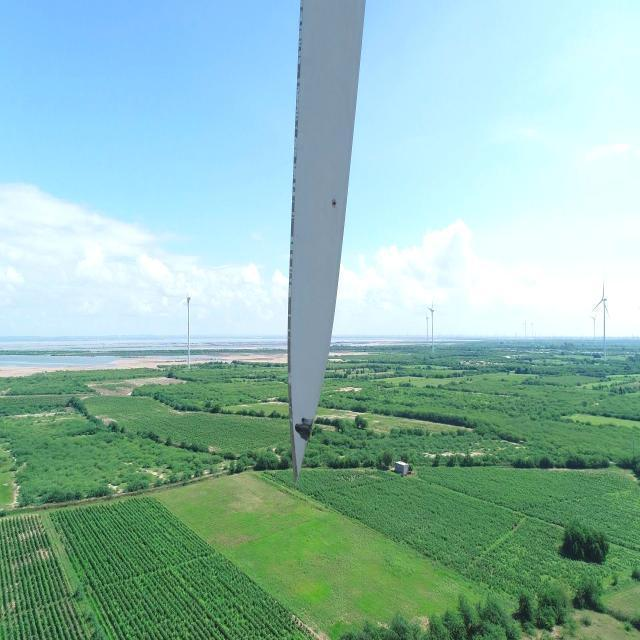oil_leakage: (294, 416, 315, 445)
